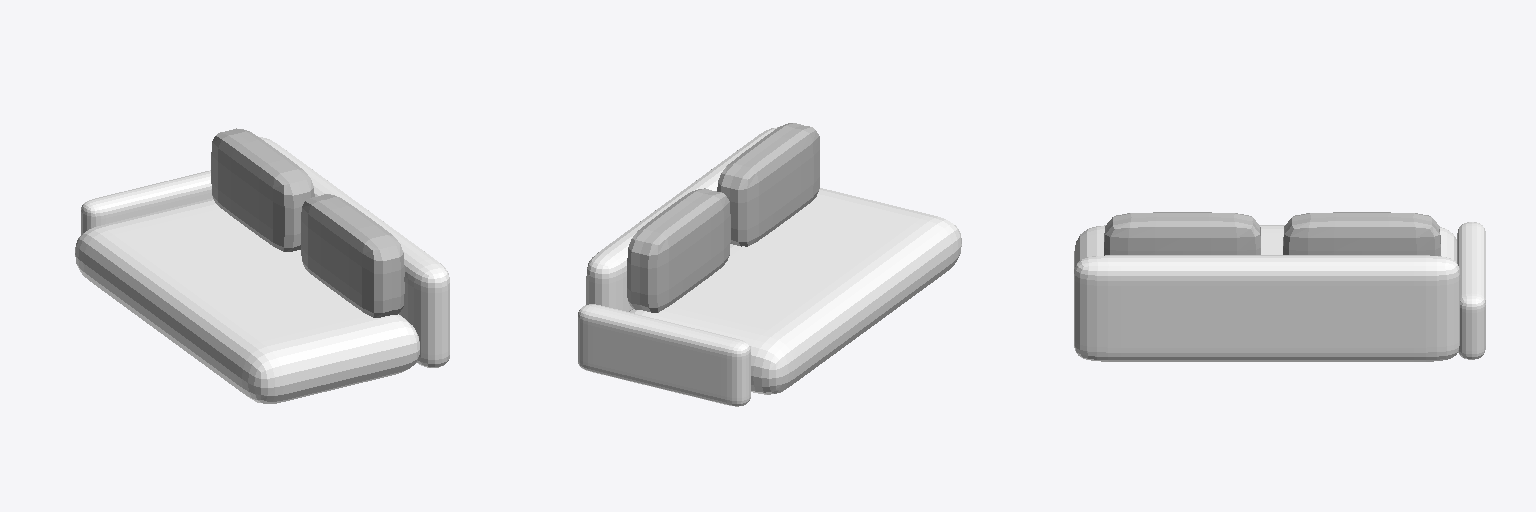
File: Sofa.obj
3 renders of one model, left to right at view 1: azimuth 30°, elevation 25°; view 2: azimuth 150°, elevation 25°; view 3: azimuth 270°, elevation 25°, orthographic.
Parts seen in each view (by area): view 1: Sofa_Cube.153; view 2: Sofa_Cube.153; view 3: Sofa_Cube.153.
Part boxes in pixels (x1,y1,x2,y2): Sofa_Cube.153: (75,128,449,403); Sofa_Cube.153: (578,123,961,406); Sofa_Cube.153: (1074,212,1485,361).
Size of the model in its own units: 1.18 by 0.7049 by 2.11.